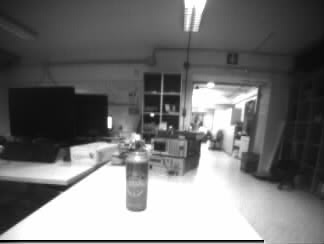Tin can: (126, 152, 148, 210)
